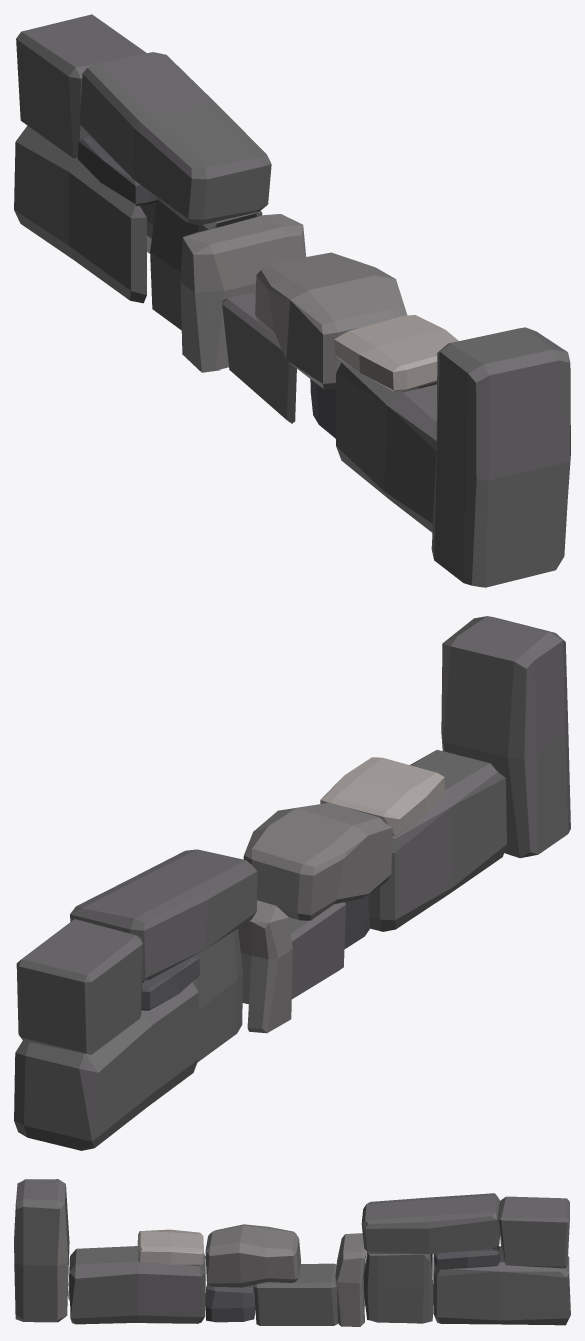
File: Murêt_roche_V1.fbx
The picture shows the model from 3 angles, top to bottom: view 1: azimuth 30°, elevation 25°; view 2: azimuth 150°, elevation 25°; view 3: azimuth 270°, elevation 25°; orthographic projection. The views are drawn at different scales.
Visible parts, largest first — view 1: Cube.002; view 2: Cube.002; view 3: Cube.002.
Boxes of the visible parts, left/top/right/bottom form: Cube.002: left=14, top=14, right=570, bottom=587; Cube.002: left=14, top=616, right=570, bottom=1150; Cube.002: left=14, top=1179, right=570, bottom=1326.
Size of the model in its own units: 38.51 by 64.61 by 261.
